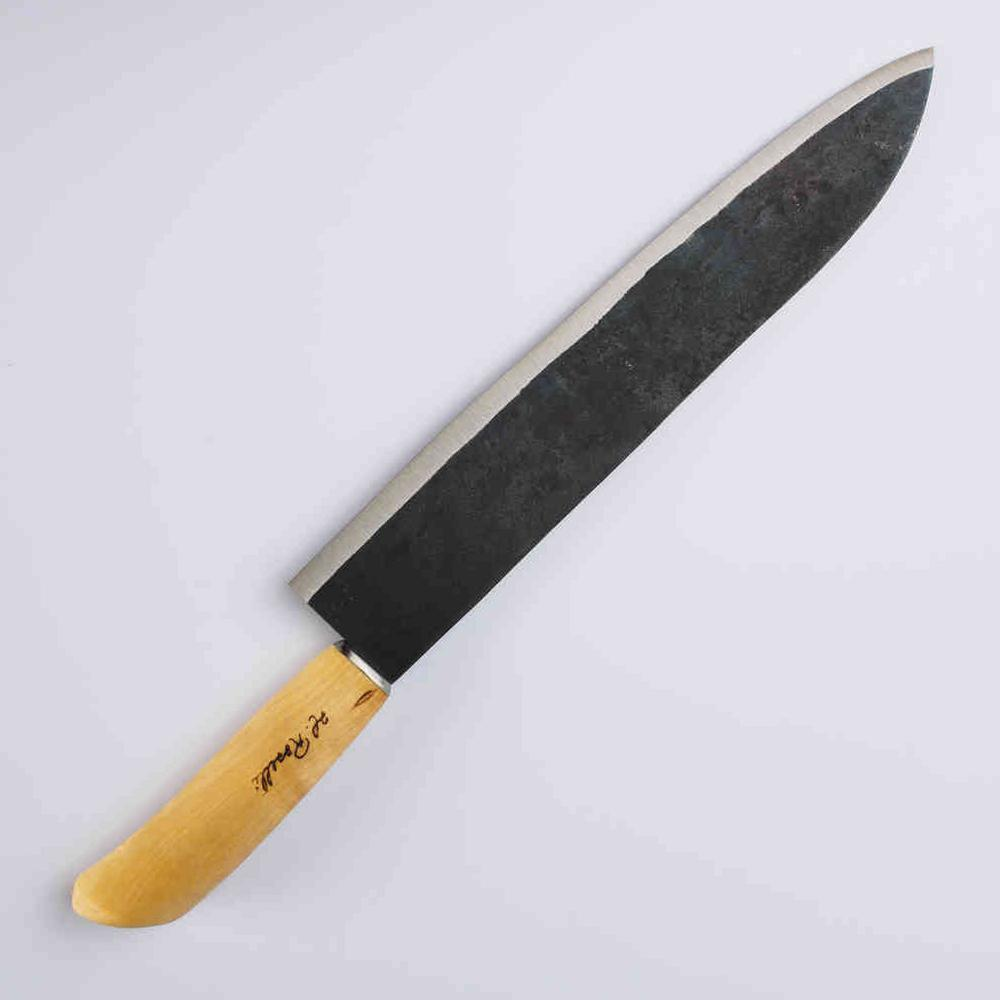knife: (71, 45, 935, 925)
